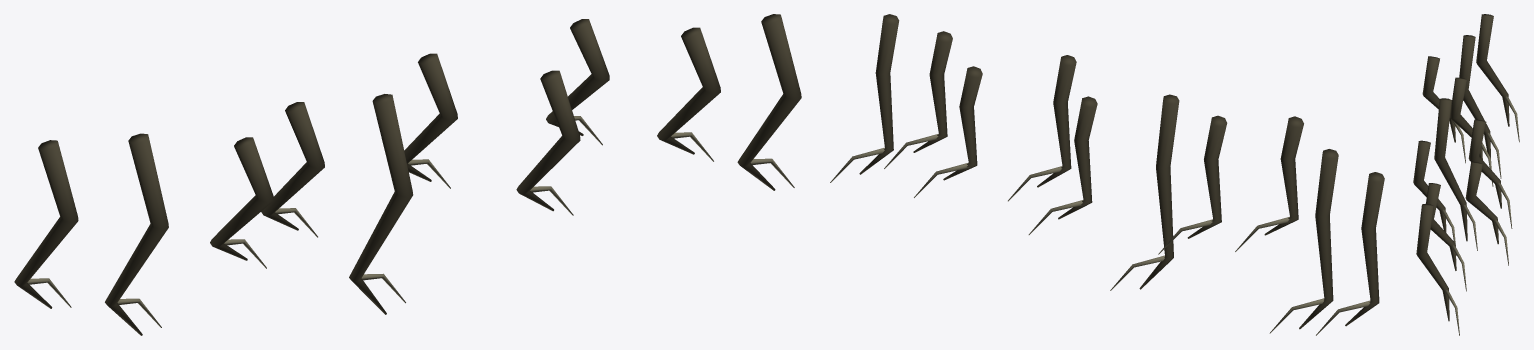
The model's file is root-curtain-a.glb.
3 views of the same model, side by side, from view 1: azimuth 30°, elevation 25°; view 2: azimuth 150°, elevation 25°; view 3: azimuth 270°, elevation 25° (orthographic). The views are drawn at different scales.
Visible parts, largest first — view 1: Surface; view 2: Surface; view 3: Surface.
Part boxes in pixels (x1,y1,x2,y2): Surface: (14, 14, 801, 335); Surface: (830, 14, 1384, 335); Surface: (1413, 14, 1519, 335).
Bounding box in the file's own units: 1.41 × 0.4369 × 0.3035.
